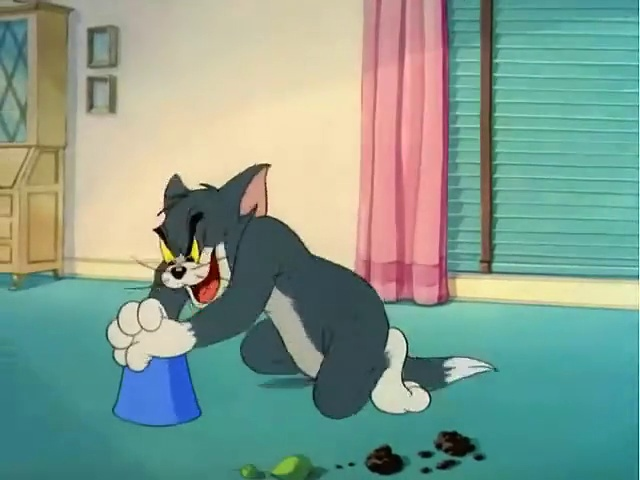tom: (91, 146, 549, 448)
